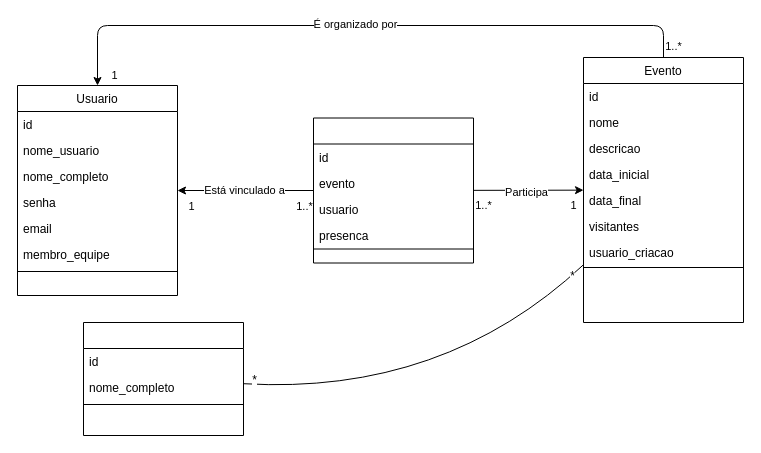
Image size: 761x453. Some labels were removed from this diagram. Here are the shapes that lost their labels. From the top down, the box of each, then its label:
(312, 117, 474, 263): ParticipanteEvento
(82, 322, 244, 436): Visitante
